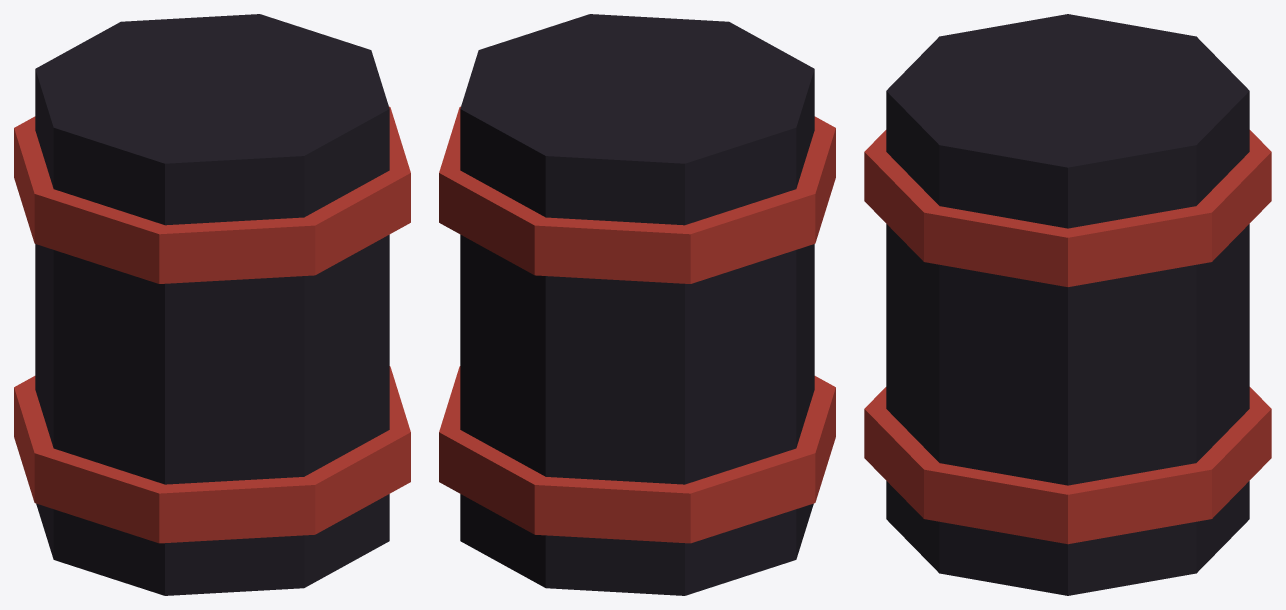
The model's file is barrel_oil.fbx.
The picture shows the model from 3 angles, left to right: view 1: azimuth 30°, elevation 25°; view 2: azimuth 150°, elevation 25°; view 3: azimuth 270°, elevation 25°; orthographic projection.
Parts seen in each view (by area): view 1: barrel_oil; view 2: barrel_oil; view 3: barrel_oil.
Boxes of the visible parts, x1=… form: barrel_oil: x1=14, y1=14, x2=410, y2=595; barrel_oil: x1=439, y1=14, x2=835, y2=595; barrel_oil: x1=864, y1=14, x2=1271, y2=595.
Bounding box in the file's own units: 0.672 × 0.78 × 0.672.
